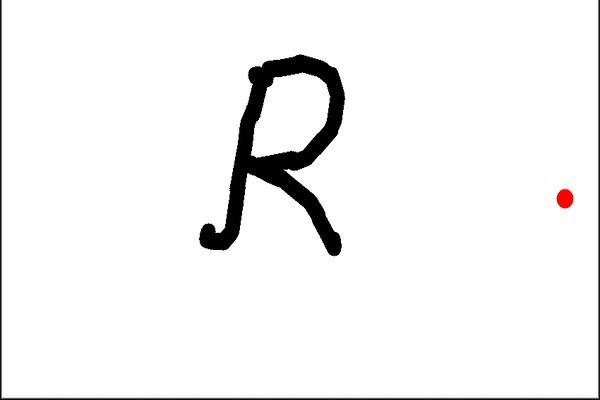R: (192, 44, 355, 263)
